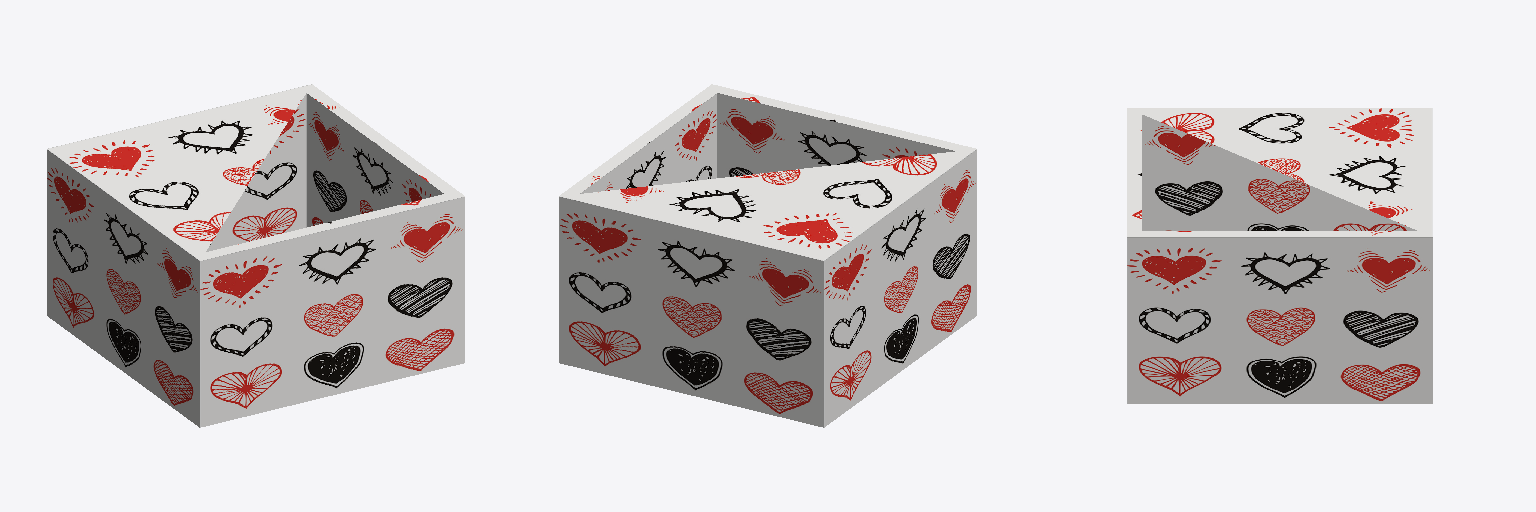
The picture shows the model from 3 angles: view 1: azimuth 30°, elevation 25°; view 2: azimuth 150°, elevation 25°; view 3: azimuth 270°, elevation 25°; orthographic projection.
Visible parts, largest first — view 1: Box001; view 2: Box001; view 3: Box001.
Part boxes in pixels (x1,y1,x2,y2): Box001: (47, 84, 464, 427); Box001: (559, 84, 976, 427); Box001: (1127, 108, 1432, 403).
Size of the model in its own units: 200 by 120 by 200.
1 materials, 1 textured.